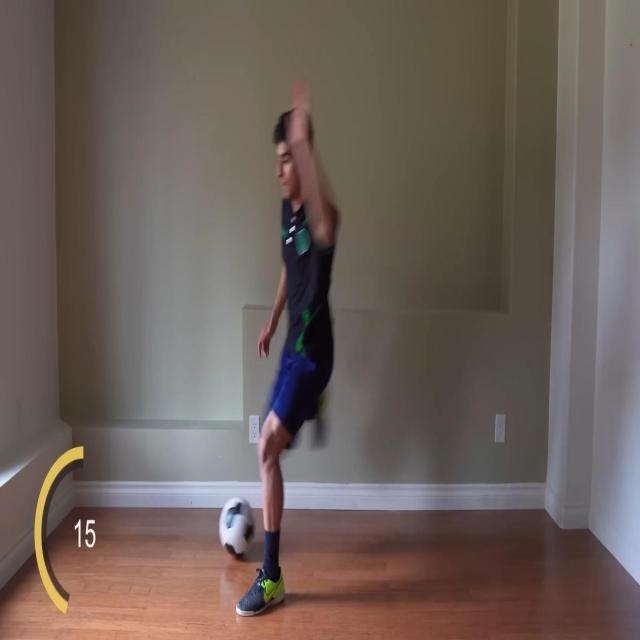Soccer Ball: (219, 496, 256, 558)
